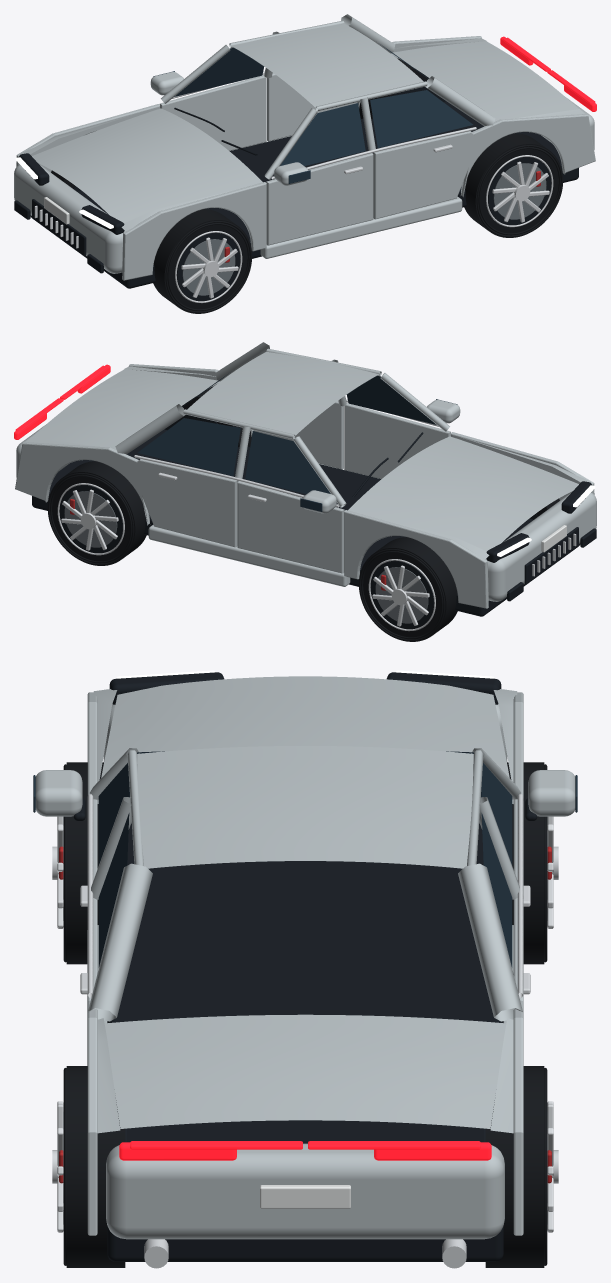
The model's file is ototr-semantik-sedan.glb.
3 renders of one model, top to bottom at view 1: azimuth 30°, elevation 25°; view 2: azimuth 150°, elevation 25°; view 3: azimuth 270°, elevation 25°, orthographic. The views are drawn at different scales.
Parts seen in each view (by area): view 1: hood, left_front_door, left_rear_door, roof, trunk, right_front_door, front_bumper, left_front_fender, left_rear_fender, object 28, object 46, object 26 (+23 smaller); view 2: hood, right_rear_door, right_front_door, roof, trunk, left_front_door, front_bumper, right_front_fender, right_rear_fender, object 65, object 83, object 26 (+23 smaller); view 3: object 26, trunk, roof, rear_bumper, hood, object 46, object 83, right_c_pillar, left_c_pillar, right_rear_fender, left_rear_fender, object 65 (+16 smaller).
Part boxes in pixels (x1,y1,x2,y2): hood: [32, 108, 262, 223]; left_front_door: [266, 103, 373, 245]; left_rear_door: [370, 90, 476, 219]; roof: [229, 20, 427, 111]; trunk: [391, 41, 578, 121]; right_front_door: [159, 47, 266, 150]; front_bumper: [14, 153, 125, 273]; left_front_fender: [121, 182, 266, 280]; left_rear_fender: [460, 109, 595, 197]; object 28: [153, 209, 252, 313]; object 46: [464, 133, 563, 237]; object 26: [30, 101, 578, 288]; hood: [348, 436, 578, 551]; right_rear_door: [131, 418, 240, 547]; right_front_door: [237, 431, 344, 573]; roof: [183, 348, 381, 439]; trunk: [32, 369, 219, 449]; left_front_door: [344, 375, 450, 478]; front_bumper: [485, 481, 596, 601]; right_front_fender: [344, 510, 489, 608]; right_rear_fender: [15, 437, 150, 525]; object 65: [358, 537, 457, 641]; object 83: [47, 461, 146, 565]; object 26: [32, 429, 580, 616]; object 26: [107, 823, 503, 1261]; trunk: [104, 1014, 506, 1128]; roof: [127, 746, 483, 868]; rear_bumper: [106, 1141, 504, 1268]; hood: [97, 676, 513, 803]; object 46: [66, 1066, 125, 1267]; object 83: [485, 1066, 544, 1267]; right_c_pillar: [458, 863, 522, 1021]; left_c_pillar: [88, 863, 152, 1021]; right_rear_fender: [490, 1000, 523, 1235]; left_rear_fender: [87, 1000, 120, 1235]; object 65: [507, 762, 544, 964].
Size of the model in its own units: 4.78 by 1.52 by 2.26.
